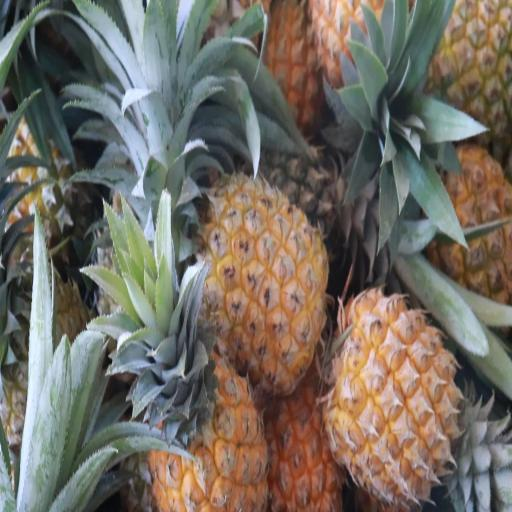Pineapple - v8 v1: (202, 175, 328, 395), (335, 298, 460, 500), (145, 322, 267, 512), (415, 140, 512, 303), (419, 0, 512, 142), (267, 371, 352, 512)
